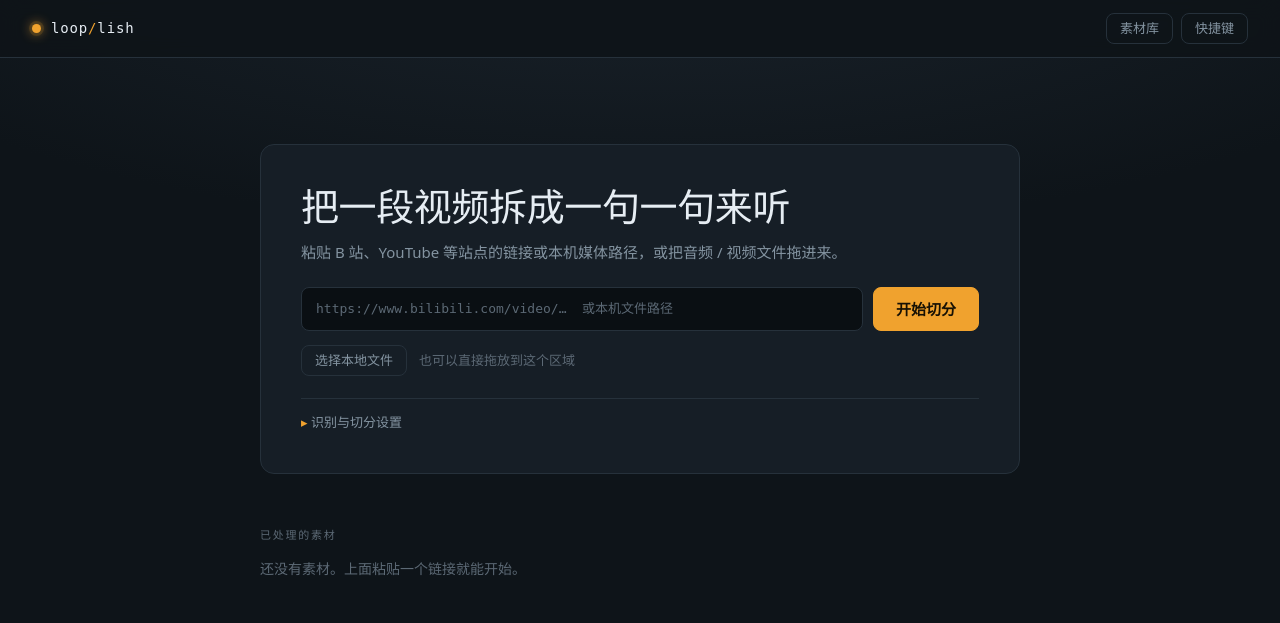
it: submission › shows the server's problem detail when creation fails
Type "C:/media/talk.mp4" into the field named "视频链接或本机媒体路径" at (582, 309), box x1=301 y1=287 x2=863 y2=330
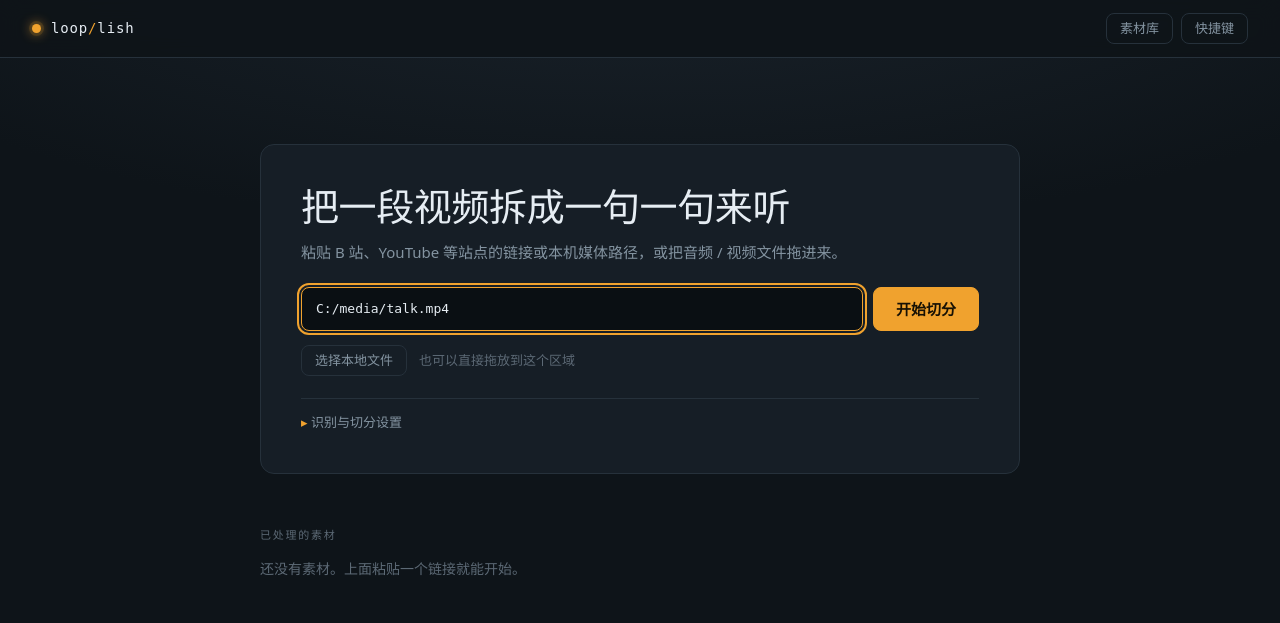
Click the button "开始切分" at (926, 309), box x1=873 y1=287 x2=979 y2=330
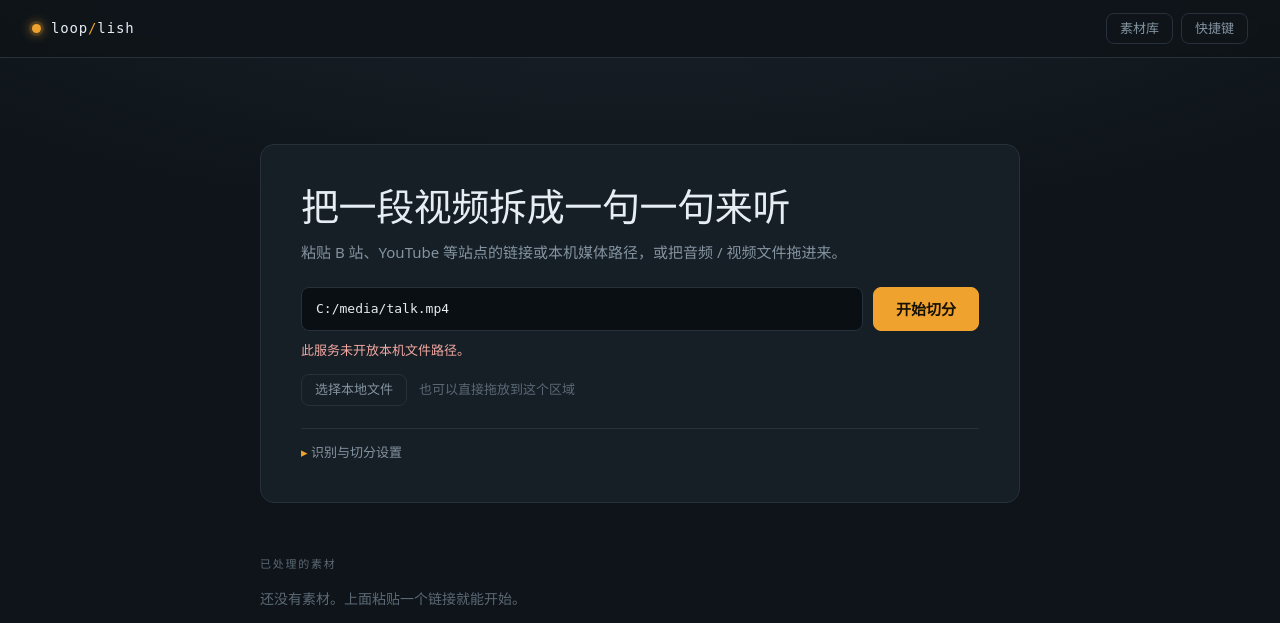
Check: the message reads "此服务未开放本机文件路径。", box x1=301 y1=340 x2=470 y2=358
